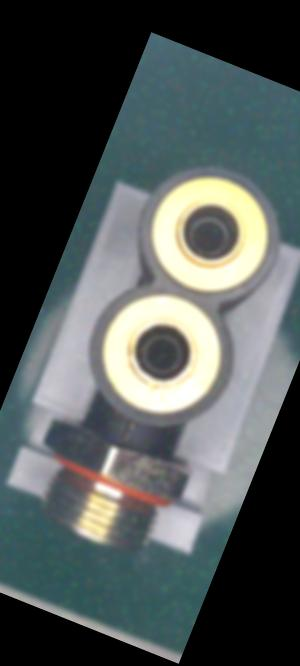craze: (116, 419, 137, 451)
